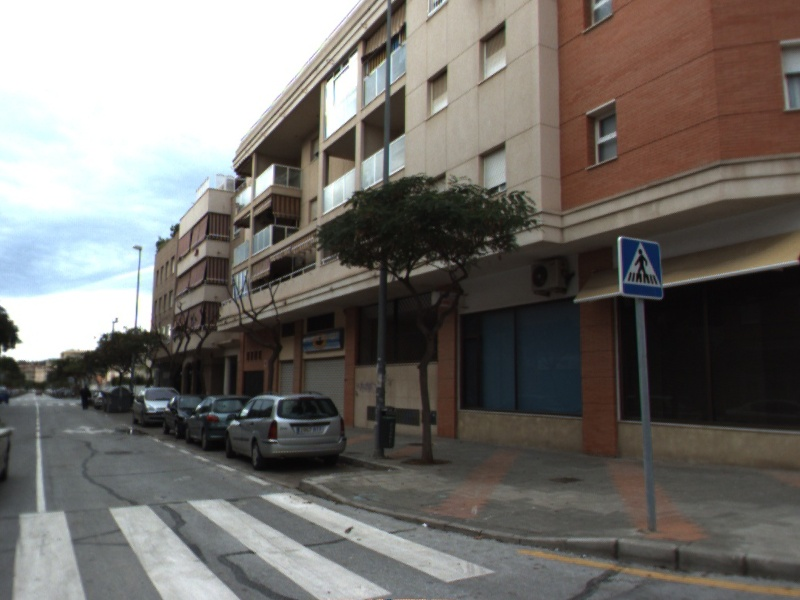STRAIGHT_LEFT_RIGHT: (61, 423, 118, 437)
